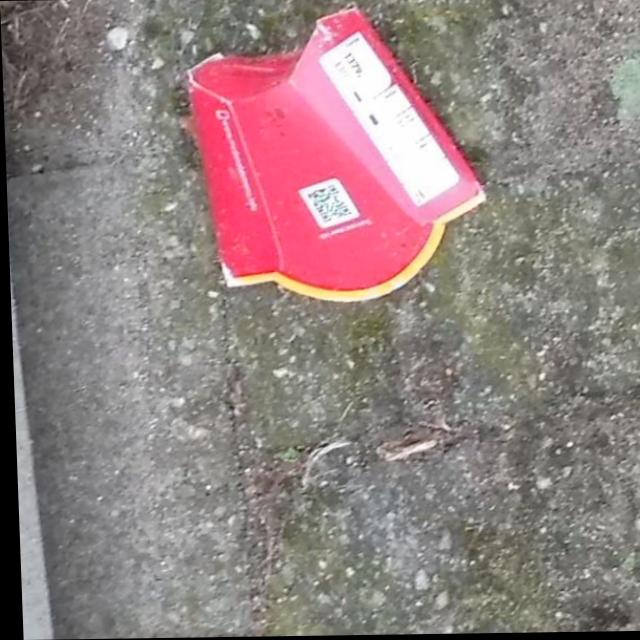Paper: (178, 0, 489, 308)
